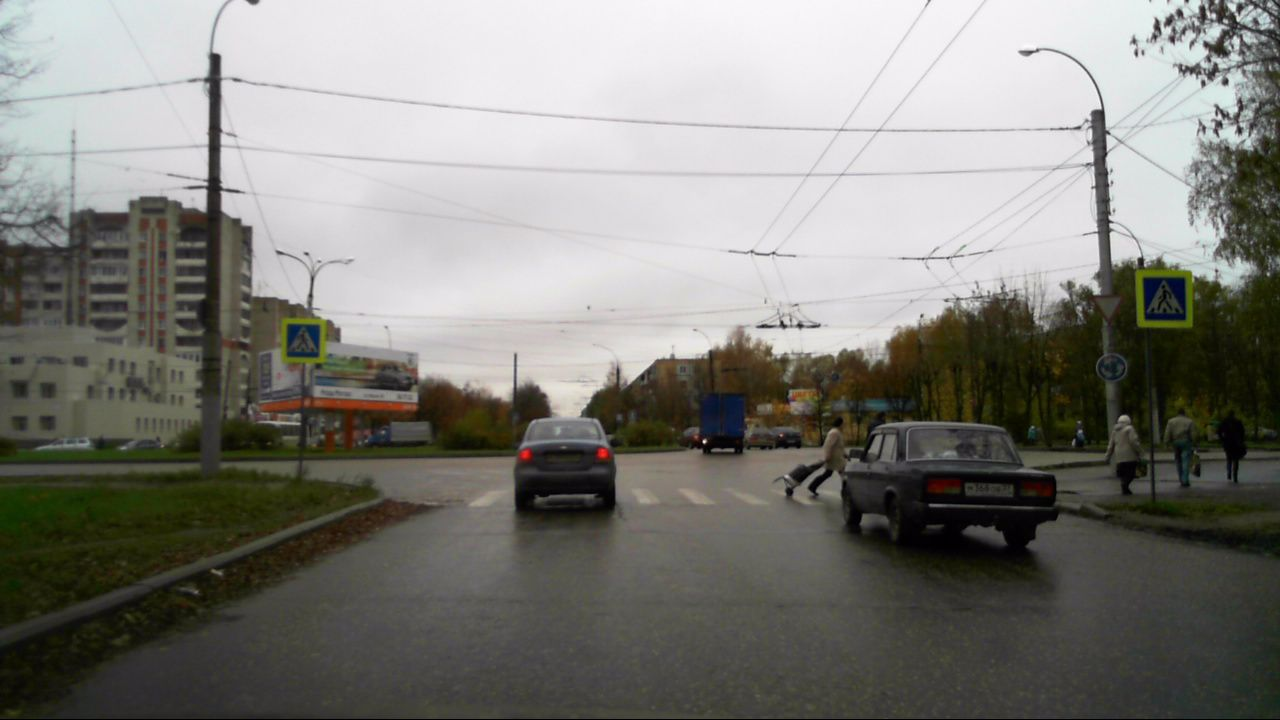Round-About: (1096, 352, 1127, 382)
